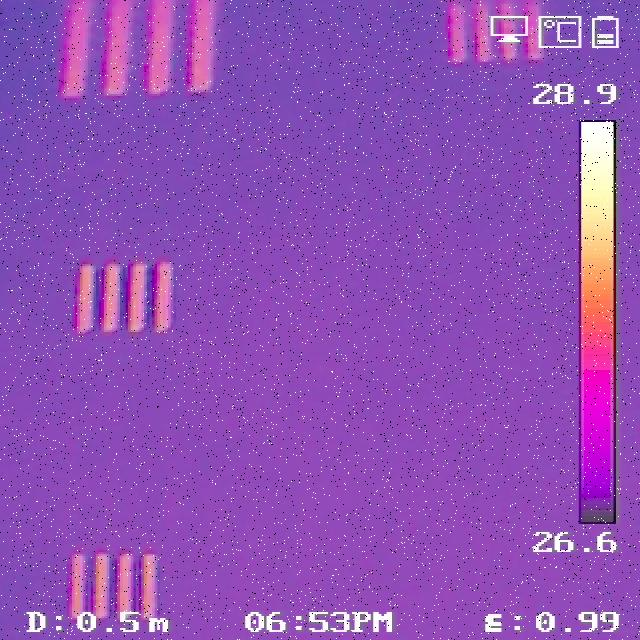Distinguishable 4-bar target: (59, 1, 228, 101), (70, 257, 174, 333), (65, 549, 164, 617), (443, 1, 540, 63)
